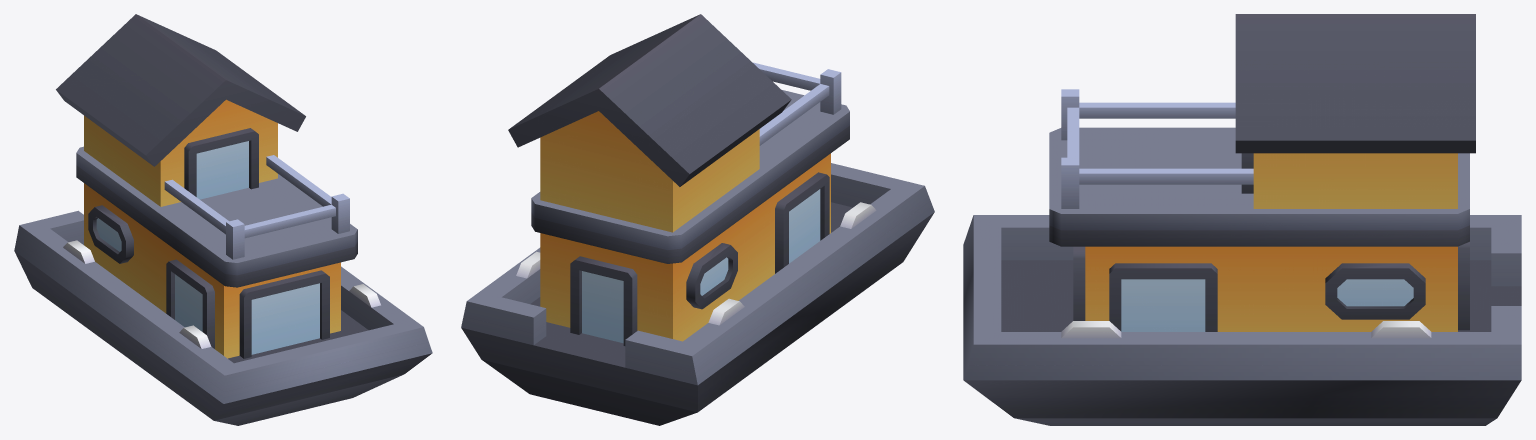
The model's file is boat-house-d-transformed.glb.
3 views of the same model, side by side, from view 1: azimuth 30°, elevation 25°; view 2: azimuth 150°, elevation 25°; view 3: azimuth 270°, elevation 25° (orthographic). The views are drawn at different scales.
Parts seen in each view (by area): view 1: boat-house-d; view 2: boat-house-d; view 3: boat-house-d.
Boxes of the visible parts, x1,y1,x2,y2 form: boat-house-d: [14, 14, 432, 425]; boat-house-d: [461, 14, 934, 425]; boat-house-d: [963, 14, 1521, 425].
Size of the model in its own units: 2.68 by 3.44 by 4.64.
1 material, 1 textured.
